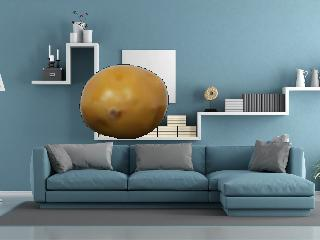potato: (80, 64, 168, 138)
